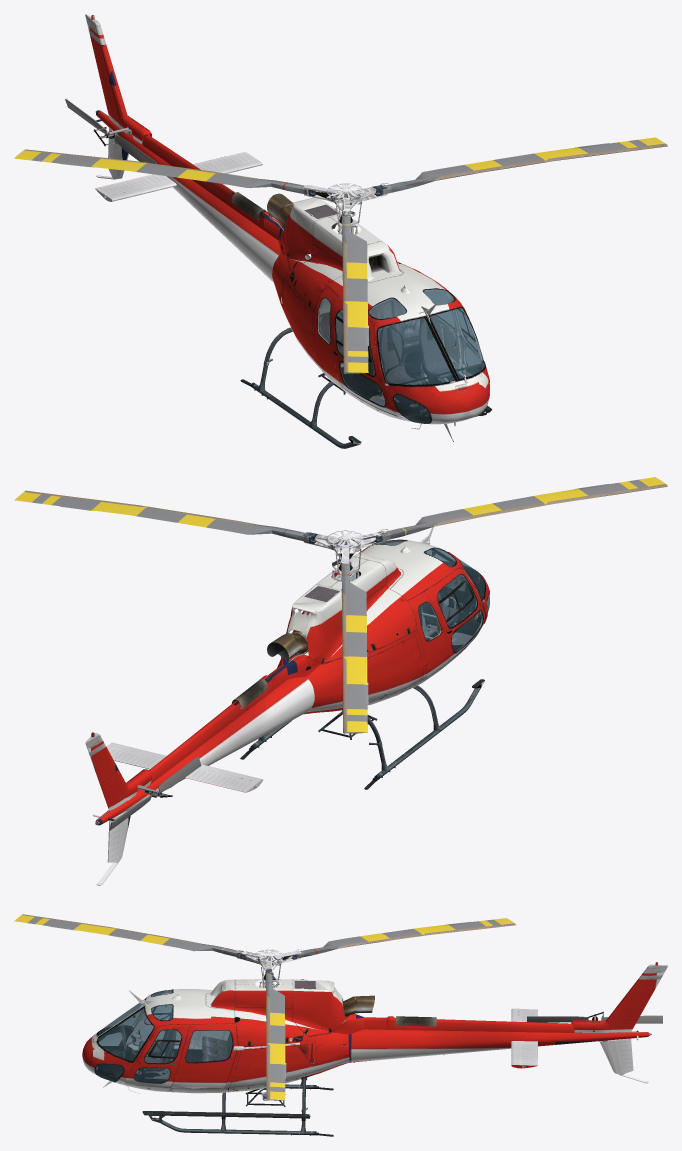
File: as350-tourist.glb
3 renders of one model, top to bottom at view 1: azimuth 30°, elevation 25°; view 2: azimuth 150°, elevation 25°; view 3: azimuth 270°, elevation 25°, orthographic. The views are drawn at different scales.
Parts seen in each view (by area): view 1: MainRotor, fuselage_tail, fuselage-main, fuselage_0, fuselage-mid, fuselage_9, fuselage_3, fuselage_15, Door_R_1, Door_R_0, Door_L_1; view 2: fuselage_tail, MainRotor, fuselage-main, fuselage-mid, Door_R_0, fuselage_0, Door_R_1, fuselage_9; view 3: fuselage_tail, fuselage-main, MainRotor, fuselage-mid, fuselage_0, Door_L_2, fuselage_9, Door_L_0, Front_Door_L_pivot_2, Front_Door_L_pivot_0, fuselage_3, fuselage_4 (+5 smaller).
Part boxes in pixels (box(x1,y1,x2,y2)): MainRotor: box(14, 137, 667, 373); fuselage_tail: box(85, 14, 345, 394); fuselage-main: box(254, 206, 489, 421); fuselage_0: box(95, 111, 489, 423); fuselage-mid: box(240, 193, 491, 448); fuselage_9: box(367, 248, 489, 441); fuselage_3: box(339, 351, 463, 422); fuselage_15: box(318, 271, 423, 367); Door_R_1: box(331, 295, 395, 415); Door_R_0: box(335, 310, 385, 405); Door_L_1: box(435, 293, 461, 371); fuselage_tail: box(85, 664, 377, 885); MainRotor: box(14, 477, 667, 733); fuselage-main: box(254, 545, 489, 777); fuselage-mid: box(240, 539, 484, 789); Door_R_0: box(438, 574, 482, 651); fuselage_0: box(95, 540, 489, 824); Door_R_1: box(424, 568, 485, 661); fuselage_9: box(362, 527, 458, 638); fuselage_tail: box(245, 962, 667, 1106); fuselage-main: box(92, 987, 364, 1135); MainRotor: box(14, 914, 515, 1100); fuselage-mid: box(95, 979, 374, 1136); fuselage_0: box(95, 989, 651, 1081); Door_L_2: box(171, 1023, 245, 1088); fuselage_9: box(82, 981, 225, 1123); Door_L_0: box(185, 1030, 232, 1062); Front_Door_L_pivot_2: box(124, 1024, 189, 1087); Front_Door_L_pivot_0: box(134, 1030, 181, 1083); fuselage_3: box(95, 1049, 203, 1082); fuselage_4: box(107, 1036, 227, 1061).
Size of the model in its own units: 8.28 by 3.29 by 12.27.
17 materials, 16 textured.
